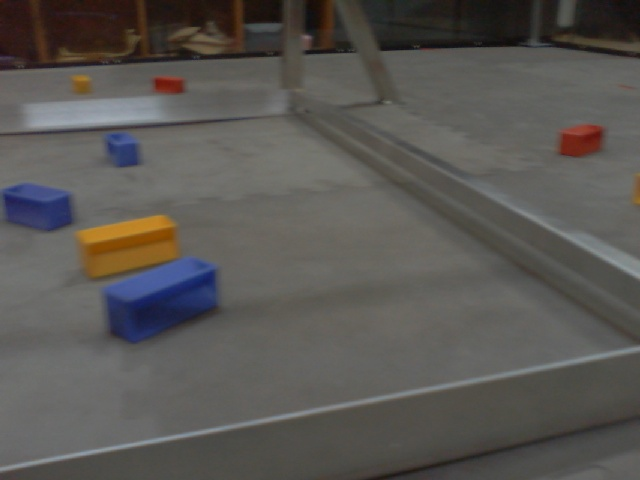BlueSample: (97, 257, 221, 347), (3, 180, 77, 234), (106, 132, 142, 170)
RedSample: (556, 122, 606, 158), (152, 75, 187, 94)
YellowSample: (78, 213, 182, 278), (72, 73, 92, 95)
